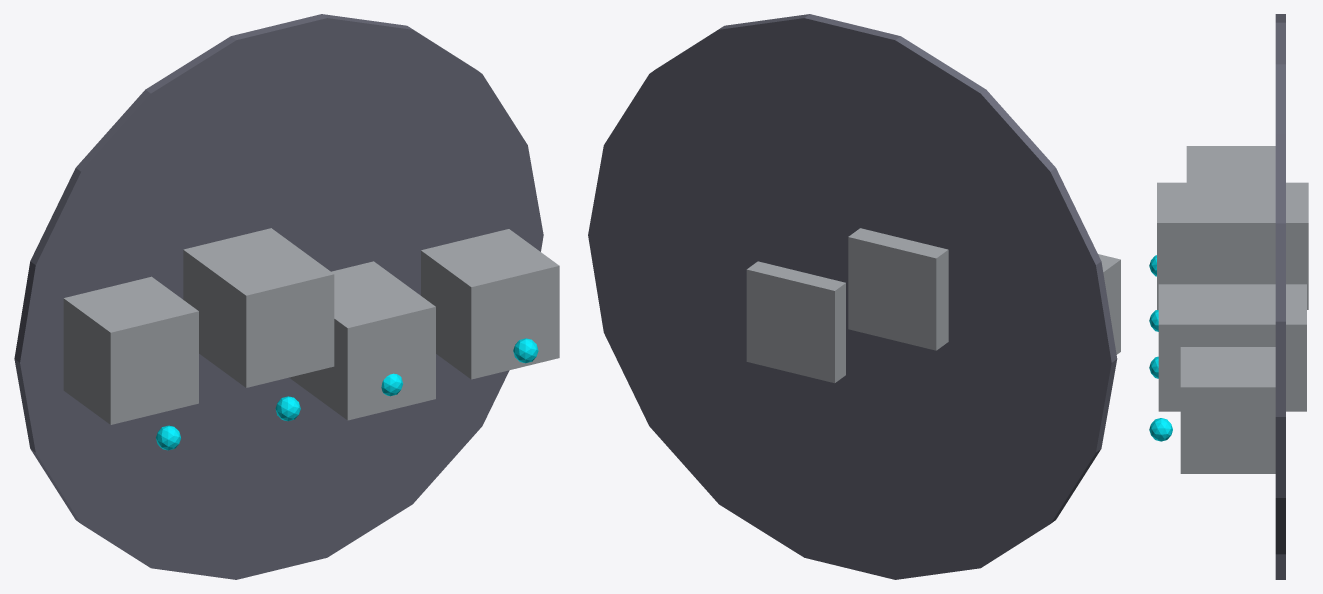
The model's file is 02_local_prop_cluster.glb.
3 renders of one model, left to right at view 1: azimuth 30°, elevation 25°; view 2: azimuth 150°, elevation 25°; view 3: azimuth 270°, elevation 25°, orthographic. The views are drawn at different scales.
Parts seen in each view (by area): view 1: scatter_base, tech_crate_1, tech_crate_0, tech_crate_3, tech_crate_2; view 2: scatter_base, tech_crate_1, tech_crate_2, tech_crate_0; view 3: tech_crate_1, tech_crate_3, tech_crate_2, scatter_base, tech_crate_0, status_light_3.
Part boxes in pixels (left/top/right/bottom): scatter_base: left=14, top=14, right=543, bottom=579; tech_crate_1: left=183, top=228, right=334, bottom=387; tech_crate_0: left=63, top=276, right=198, bottom=424; tech_crate_3: left=421, top=229, right=559, bottom=379; tech_crate_2: left=289, top=261, right=435, bottom=420; scatter_base: left=588, top=14, right=1117, bottom=579; tech_crate_1: left=848, top=228, right=948, bottom=350; tech_crate_2: left=746, top=261, right=845, bottom=383; tech_crate_0: left=1098, top=254, right=1120, bottom=354; tech_crate_1: left=1157, top=182, right=1308, bottom=309; tech_crate_3: left=1180, top=347, right=1275, bottom=473; tech_crate_2: left=1158, top=284, right=1306, bottom=411; scatter_base: left=1275, top=14, right=1285, bottom=579; tech_crate_0: left=1186, top=146, right=1275, bottom=182; status_light_3: left=1149, top=418, right=1172, bottom=441.
Size of the model in its own units: 1.9 by 1.87 by 0.5336.
